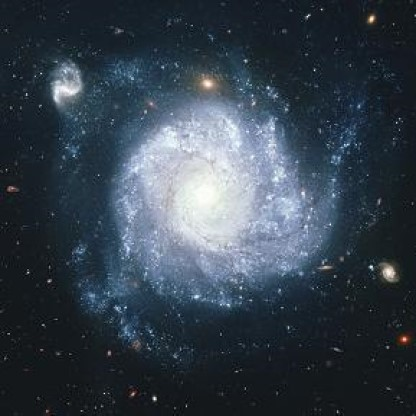NGC 1309: (47, 55, 408, 358)
